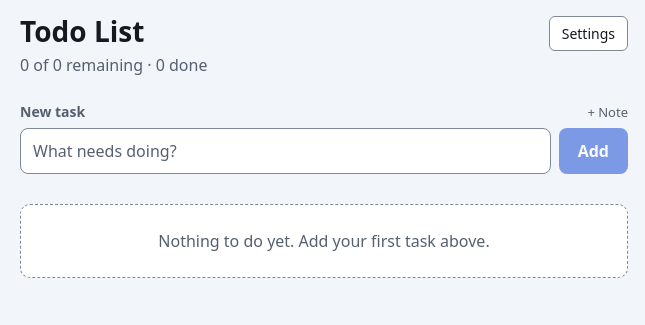
Test: App › reports how many tasks are remaining
Check: the text "Nothing to do yet. Add your first task above." is shown, box [20,204,628,278]
Type "Only task" into the field labelled "New task". click: (285, 151)
box: [20,128,551,174]
Then press Enter
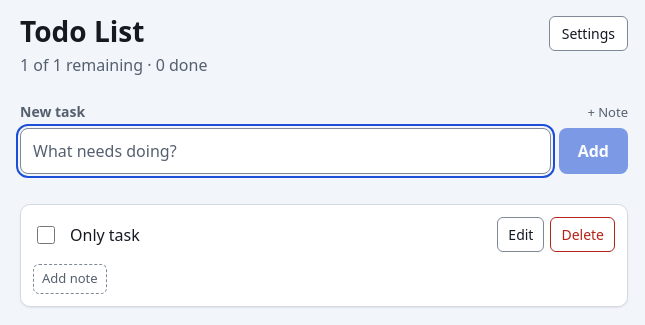
Check: the text "Only task" is shown, box [70,223,140,247]
Check: the text "1 of 1 remaining · 0 done" is shown, box [20,54,208,76]
Click the checkbox. click: (46, 235)
box: [37,226,55,244]
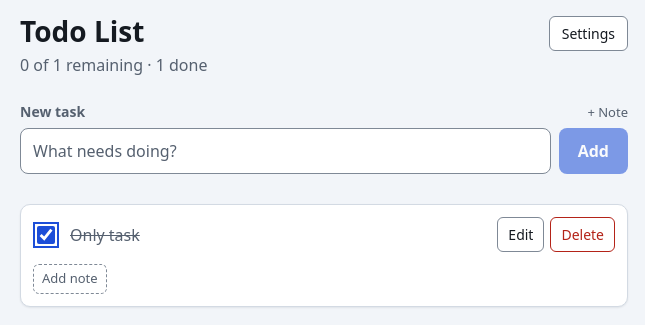
Check: the text "0 of 1 remaining · 1 done" is shown, box [20,54,208,76]
